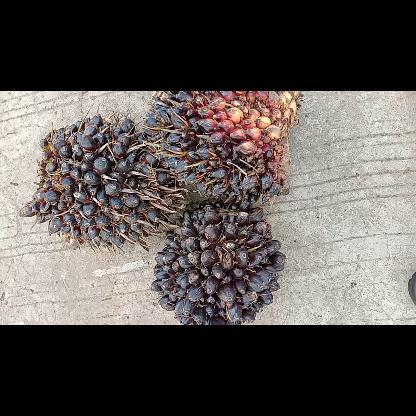TBS mentah: (17, 112, 191, 250), (142, 91, 308, 211), (150, 196, 286, 324)
